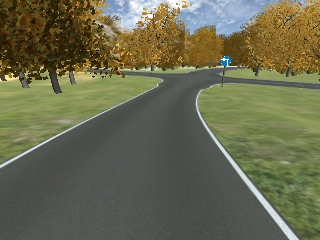left: (220, 55, 231, 66)
